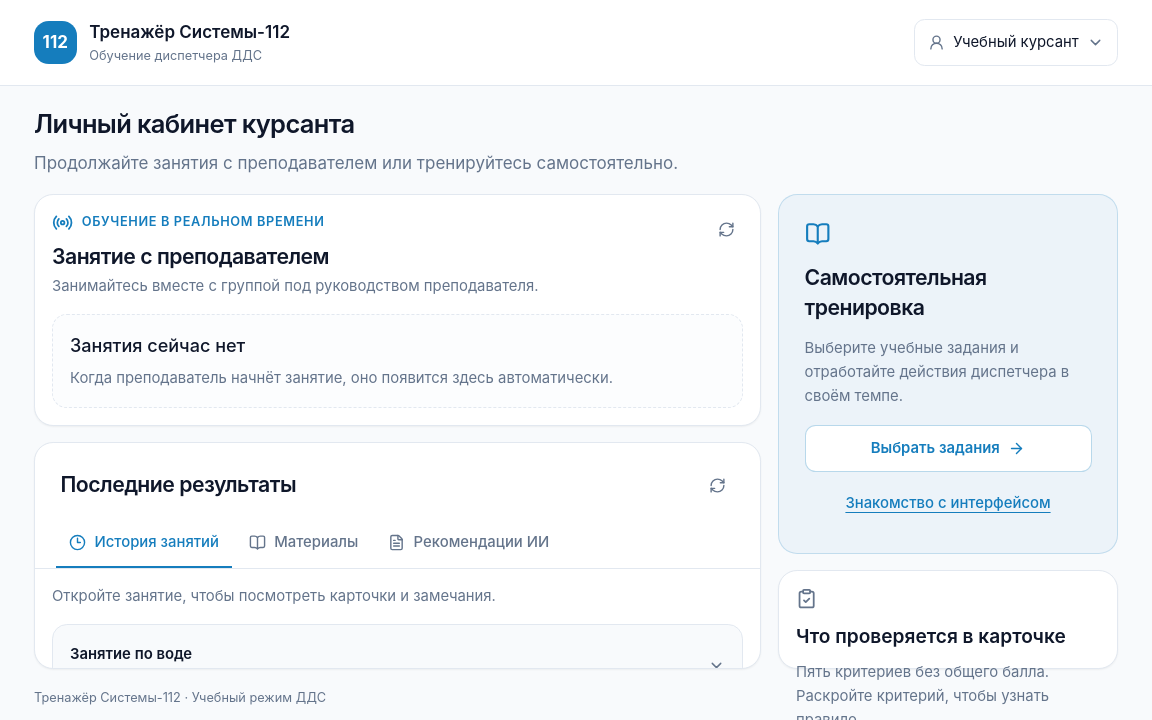
it: shows a zero teacher grade in the collapsed profile summary and its comment after opening
This screenshot has width=1152, height=720.
Check: the text "Комментарий нулевой оценки" is not shown
Click the heading "Занятие по воде" at [131, 654], box [70,645,192,663]
(page scrolled)
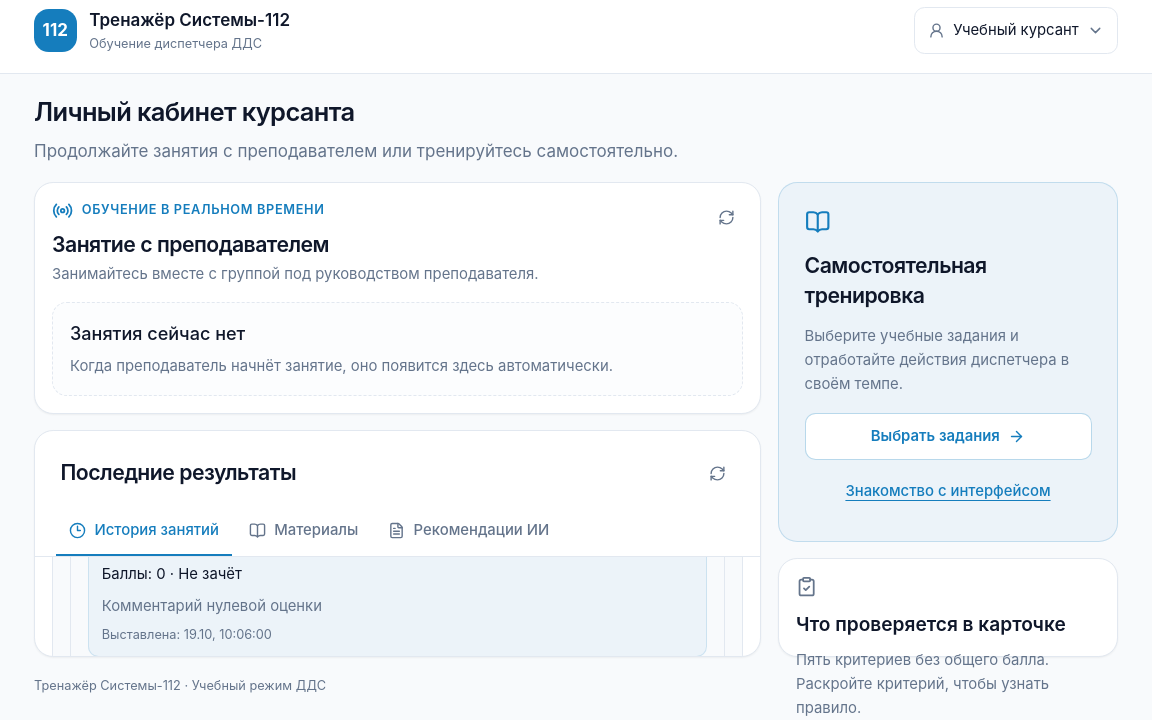
Check: the text "Комментарий нулевой оценки" is shown, box [102,597,322,615]
